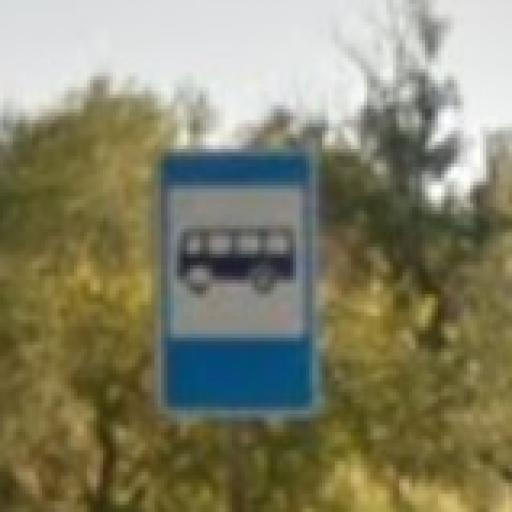traffic_sign: (156, 146, 320, 419)
